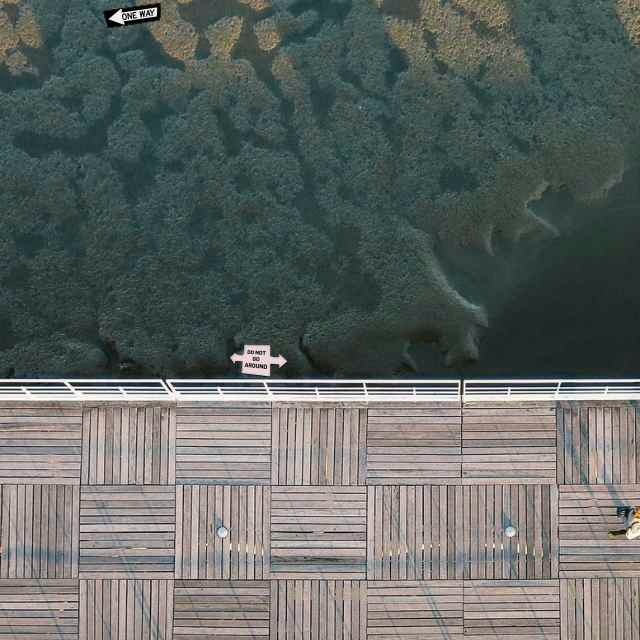DO_NOT_GO_AROUND: (229, 344, 288, 377)
ONE_WAY_ left: (102, 2, 161, 28)
